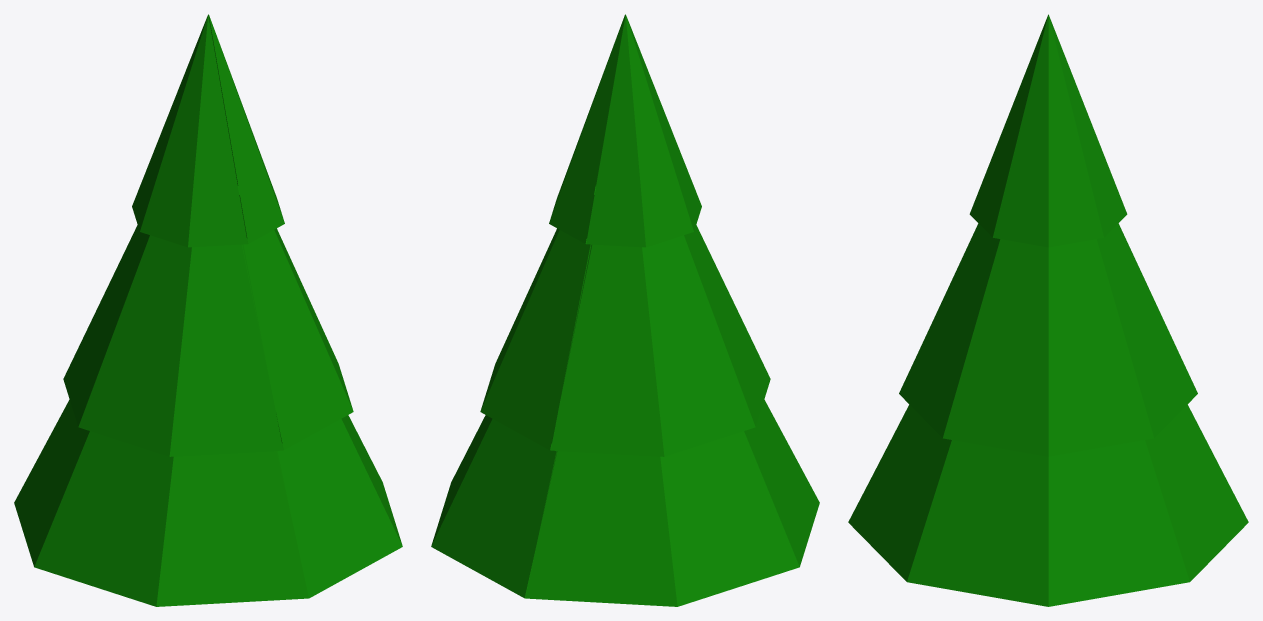
The model's file is Tree.fbx.
3 views of the same model, side by side, from view 1: azimuth 30°, elevation 25°; view 2: azimuth 150°, elevation 25°; view 3: azimuth 270°, elevation 25° (orthographic).
Parts seen in each view (by area): view 1: Cylinder; view 2: Cylinder; view 3: Cylinder.
Boxes of the visible parts, <box> form: Cylinder: <box>14,14,402,606</box>; Cylinder: <box>431,14,819,606</box>; Cylinder: <box>848,14,1248,606</box>.
Size of the model in its own units: 200 by 300 by 200.
